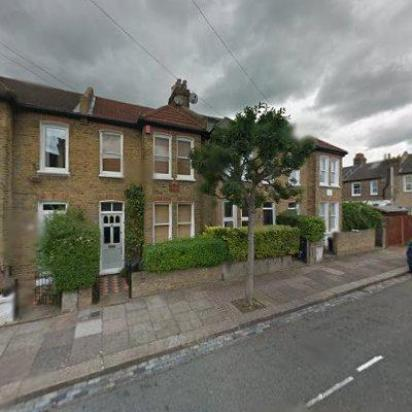stationary-car-onstreet: (404, 232, 410, 282)
